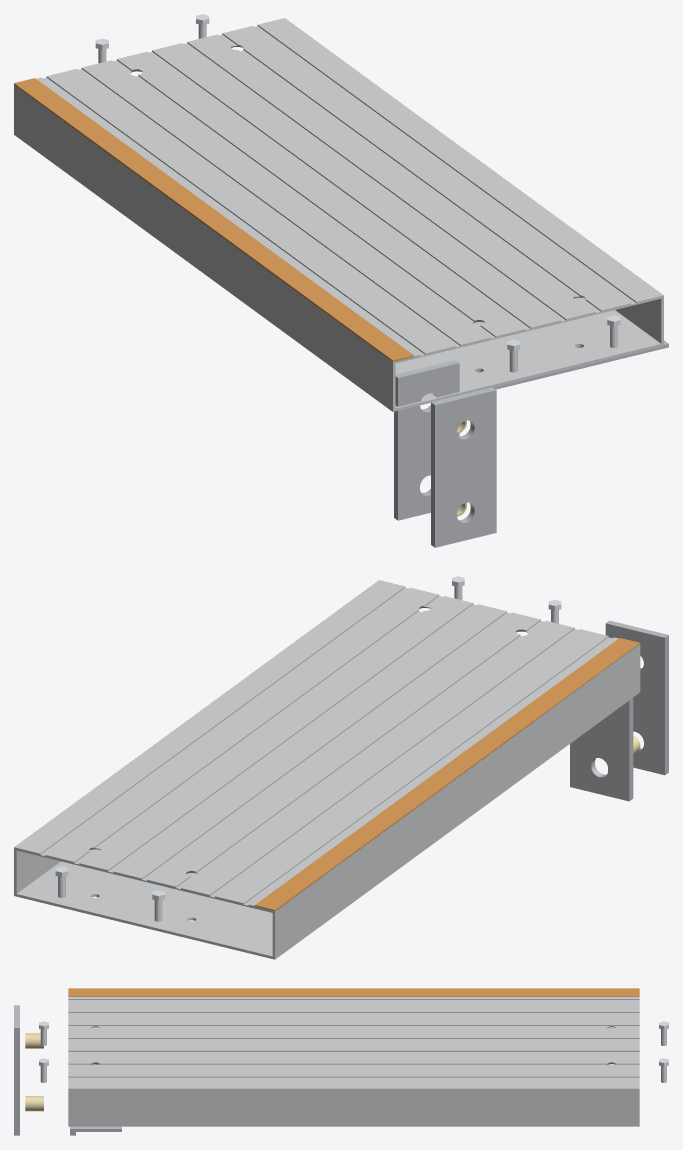
Rendered from car_B0_1.glb.
3 views of the same model, one above another, from view 1: azimuth 30°, elevation 25°; view 2: azimuth 150°, elevation 25°; view 3: azimuth 270°, elevation 25° (orthographic). The views are drawn at different scales.
Visible parts, largest first — view 1: =>[0:1:1:12], =>[0:1:1:6], =>[0:1:1:14], =>[0:1:1:5]; view 2: =>[0:1:1:12], =>[0:1:1:14], =>[0:1:1:6], =>[0:1:1:5]; view 3: =>[0:1:1:12], =>[0:1:1:14], =>[0:1:1:6], =>[0:1:1:5], =>[0:1:1:10], =>[0:1:1:8].
Boxes of the visible parts, x1=… form: =>[0:1:1:12]: x1=14, y1=18, x2=663, y2=411; =>[0:1:1:6]: x1=431, y1=387, x2=496, y2=547; =>[0:1:1:14]: x1=14, y1=78, x2=413, y2=362; =>[0:1:1:5]: x1=394, y1=340, x2=668, y2=520; =>[0:1:1:12]: x1=14, y1=580, x2=640, y2=959; =>[0:1:1:14]: x1=254, y1=638, x2=640, y2=911; =>[0:1:1:6]: x1=605, y1=620, x2=668, y2=775; =>[0:1:1:5]: x1=570, y1=698, x2=633, y2=801; =>[0:1:1:12]: x1=68, y1=996, x2=639, y2=1126; =>[0:1:1:14]: x1=68, y1=988, x2=639, y2=996; =>[0:1:1:6]: x1=14, y1=1005, x2=19, y2=1135; =>[0:1:1:5]: x1=70, y1=1064, x2=121, y2=1135; =>[0:1:1:10]: x1=25, y1=1096, x2=43, y2=1111; =>[0:1:1:8]: x1=25, y1=1033, x2=43, y2=1048.
Size of the model in its own units: 0.315 by 0.1808 by 0.8555.
